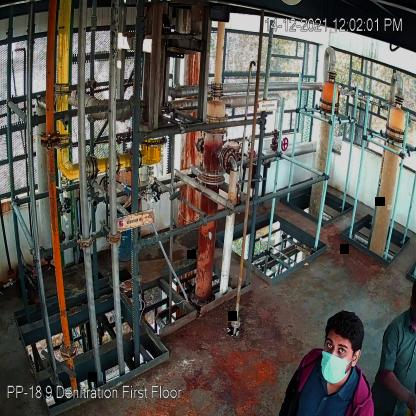no_goggles: (324, 338, 348, 356)
